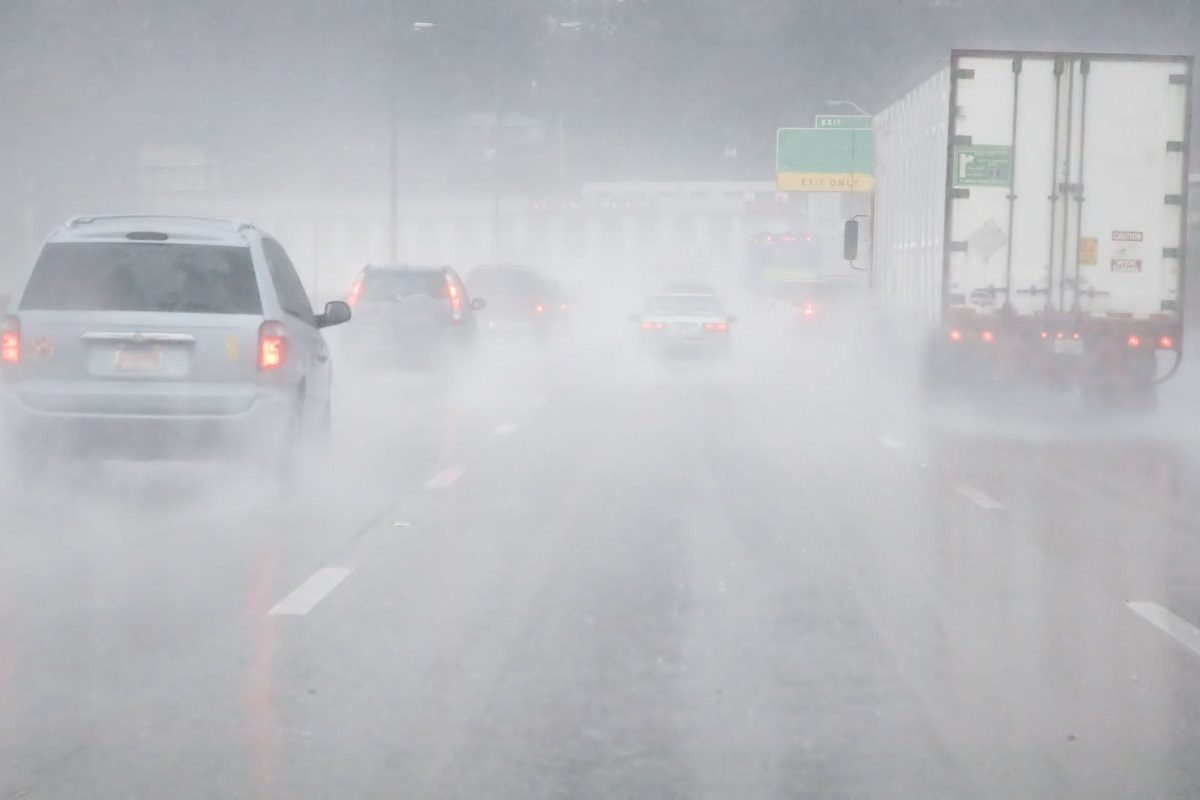car: (0, 205, 350, 503), (335, 264, 474, 379), (465, 262, 544, 346), (635, 285, 733, 345), (800, 271, 867, 339), (762, 288, 807, 337), (544, 262, 565, 349)
truck: (852, 50, 1192, 422), (744, 228, 823, 325)
